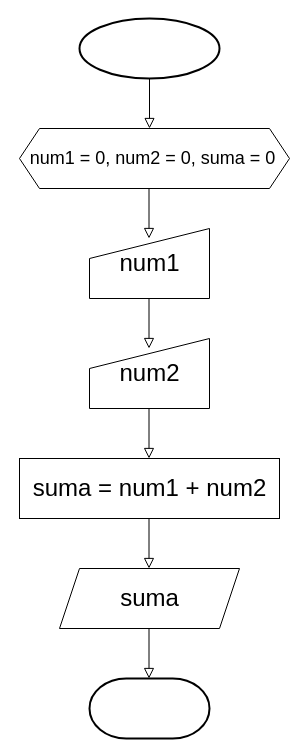
Image size: 307x756. Some labels were removed from this diagram. Each missing label, with the centre of its shape:
Fin: the point at 149,708
Inicio: the point at 149,48
